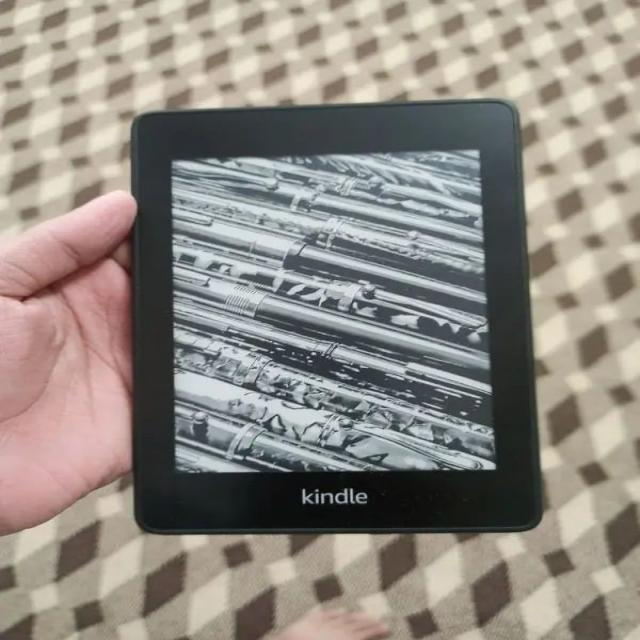electronic: (129, 98, 543, 534)
